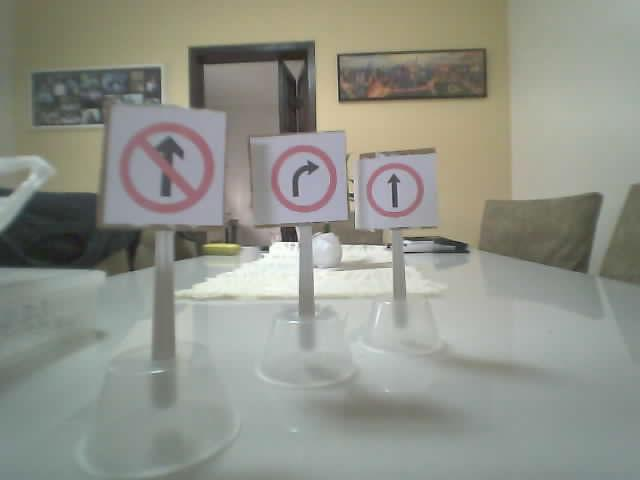R-25b_direita: (269, 144, 338, 213)
R-26_frente: (365, 162, 423, 218)
R-3_sentido-proibido: (120, 122, 213, 212)
